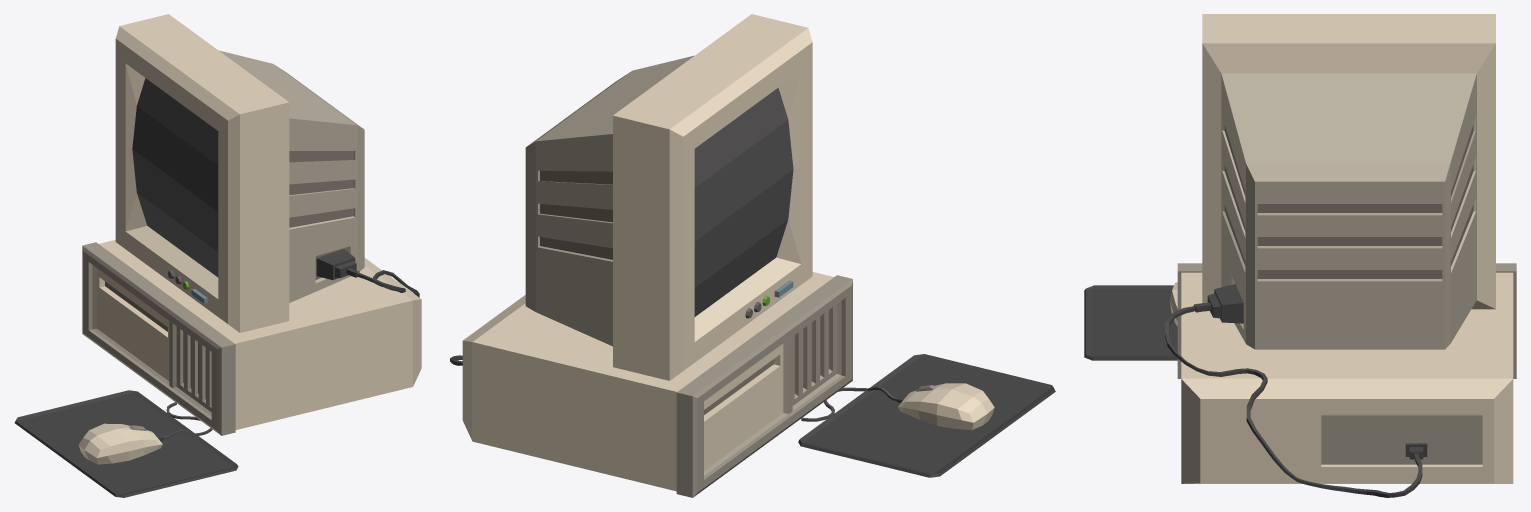
File: Retro_Computer_amp_Monitor.glb
3 views of the same model, side by side, from view 1: azimuth 30°, elevation 25°; view 2: azimuth 150°, elevation 25°; view 3: azimuth 270°, elevation 25° (orthographic). The views are drawn at different scales.
Visible parts, largest first — view 1: Monitor.002_RetroPalette2_0, Computer.002_RetroPalette2_0, MouseMat.002_RetroPalette2_0, Mouse.002_RetroPalette2_0, Cable.002_RetroPalette2_0; view 2: Monitor.002_RetroPalette2_0, Computer.002_RetroPalette2_0, MouseMat.002_RetroPalette2_0, Mouse.002_RetroPalette2_0; view 3: Monitor.002_RetroPalette2_0, Computer.002_RetroPalette2_0, MouseMat.002_RetroPalette2_0, Cable.002_RetroPalette2_0.
Boxes of the visible parts, x1,y1,x2,y2 form: Monitor.002_RetroPalette2_0: (115, 14, 364, 332); Computer.002_RetroPalette2_0: (82, 240, 421, 435); MouseMat.002_RetroPalette2_0: (14, 390, 238, 497); Mouse.002_RetroPalette2_0: (78, 402, 212, 464); Cable.002_RetroPalette2_0: (316, 249, 419, 297); Monitor.002_RetroPalette2_0: (525, 14, 812, 380); Computer.002_RetroPalette2_0: (462, 272, 852, 497); MouseMat.002_RetroPalette2_0: (798, 354, 1055, 477); Mouse.002_RetroPalette2_0: (801, 383, 994, 429); Monitor.002_RetroPalette2_0: (1202, 14, 1495, 349); Computer.002_RetroPalette2_0: (1177, 263, 1516, 483); MouseMat.002_RetroPalette2_0: (1084, 285, 1177, 360); Cable.002_RetroPalette2_0: (1165, 284, 1427, 497).
Bounding box in the file's own units: 114 × 84 × 87.68.
1 material, 1 textured.
